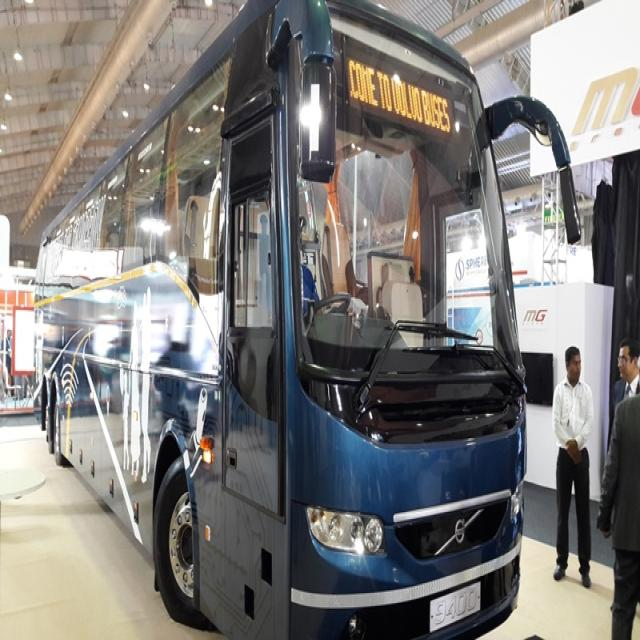bus: (35, 0, 580, 638)
